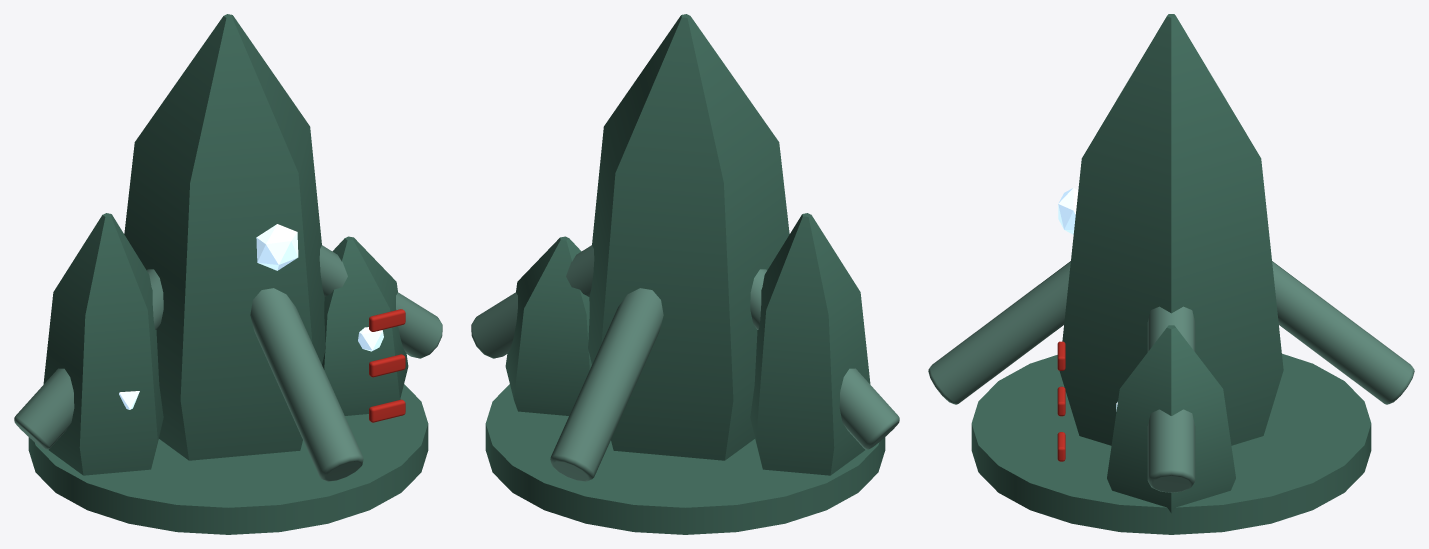
The picture shows the model from 3 angles, left to right: view 1: azimuth 30°, elevation 25°; view 2: azimuth 150°, elevation 25°; view 3: azimuth 270°, elevation 25°; orthographic projection.
Visible parts, largest first — view 1: Faceted crystal tower, Foundation drum, Faceted crystal tower.002, Crystal radial strut.003, Faceted crystal tower.001, Crystal radial strut.002, Crystal radial strut, Central luminous node, Crystal red identifying inset, Crystal red identifying inset.001, Crystal red identifying inset.002; view 2: Faceted crystal tower, Foundation drum, Faceted crystal tower.002, Faceted crystal tower.001, Crystal radial strut.001, Crystal radial strut.002, Crystal radial strut; view 3: Faceted crystal tower, Foundation drum, Faceted crystal tower.001, Crystal radial strut.001, Crystal radial strut.003, Crystal radial strut, Central luminous node.
Part boxes in pixels (x1,y1,x2,y2): Faceted crystal tower: (124,14,325,460); Foundation drum: (28,384,428,534); Faceted crystal tower.002: (43,213,163,475); Crystal radial strut.003: (250,288,363,481); Faceted crystal tower.001: (322,236,408,415); Crystal radial strut.002: (14,269,163,449); Crystal radial strut: (319,245,442,358); Central luminous node: (256,224,298,270); Crystal red identifying inset: (369,399,405,422); Crystal red identifying inset.001: (369,354,405,377); Crystal red identifying inset.002: (369,309,405,331); Faceted crystal tower: (588,14,789,460); Foundation drum: (485,384,885,534); Faceted crystal tower.002: (750,213,870,475); Faceted crystal tower.001: (505,236,591,415); Crystal radial strut.001: (550,288,663,481); Crystal radial strut.002: (750,269,899,449); Crystal radial strut: (471,245,594,358); Faceted crystal tower: (1059,14,1283,445); Foundation drum: (971,353,1371,534); Faceted crystal tower.001: (1107,325,1235,513); Crystal radial strut.001: (1272,261,1414,404); Crystal radial strut.003: (928,261,1070,404); Crystal radial strut: (1147,306,1195,492); Central luminous node: (1058,188,1078,234).
Size of the model in its own units: 2.43 by 2.4 by 2.43.
